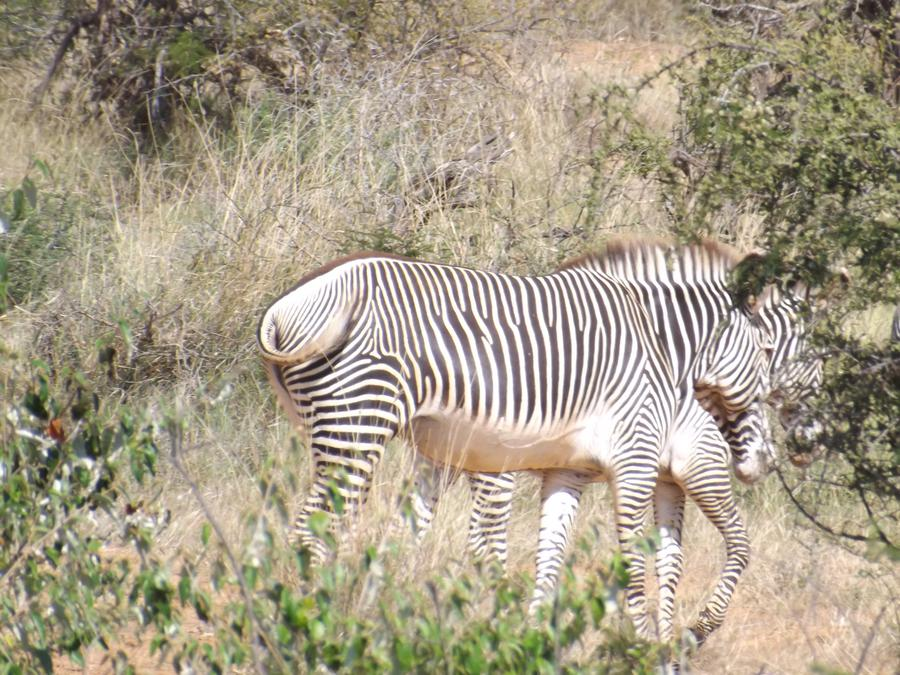zebra_grevys: (251, 223, 668, 453)
